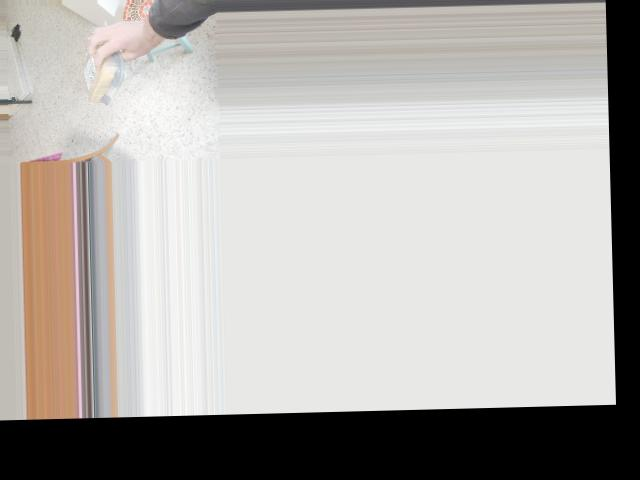cheese: (78, 30, 127, 107)
